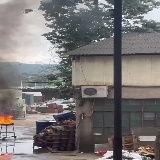fire: (0, 115, 13, 124)
